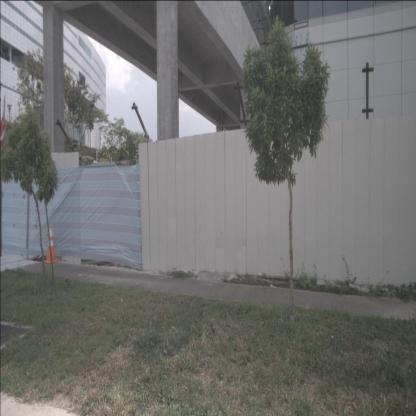movable_object-trafficcone: (44, 225, 58, 263)
